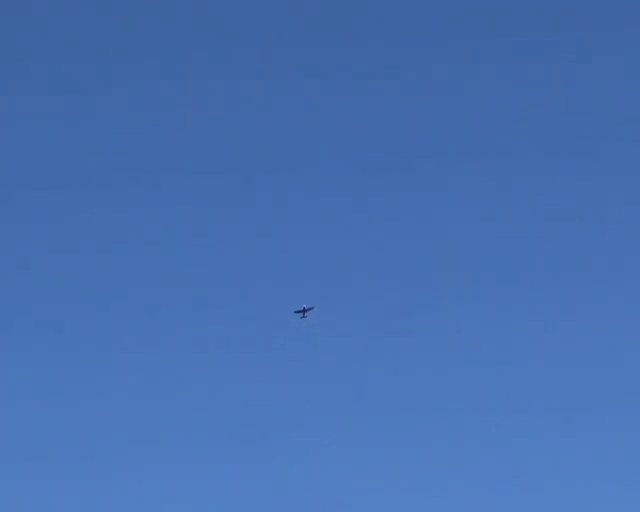AIRPLANE: (293, 304, 315, 318)
